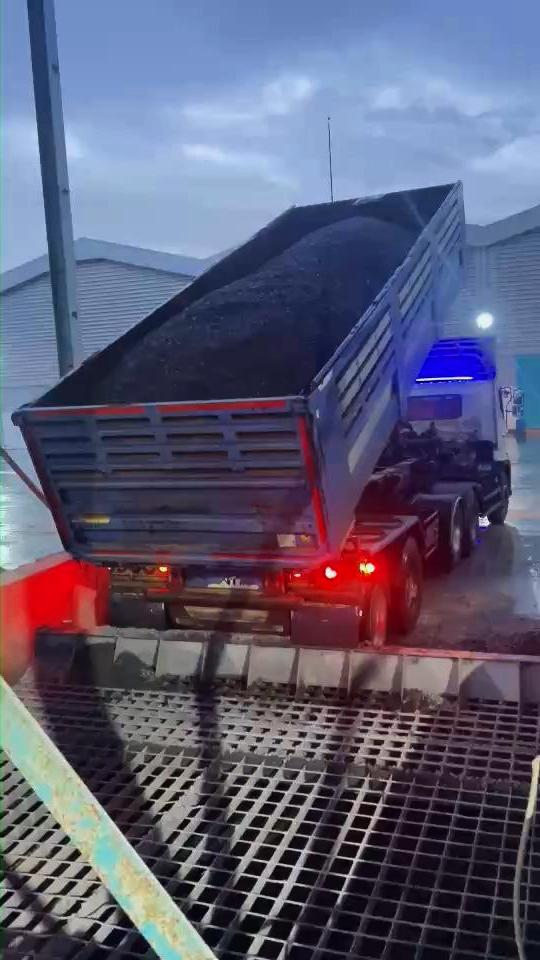gravel: (89, 216, 416, 403)
